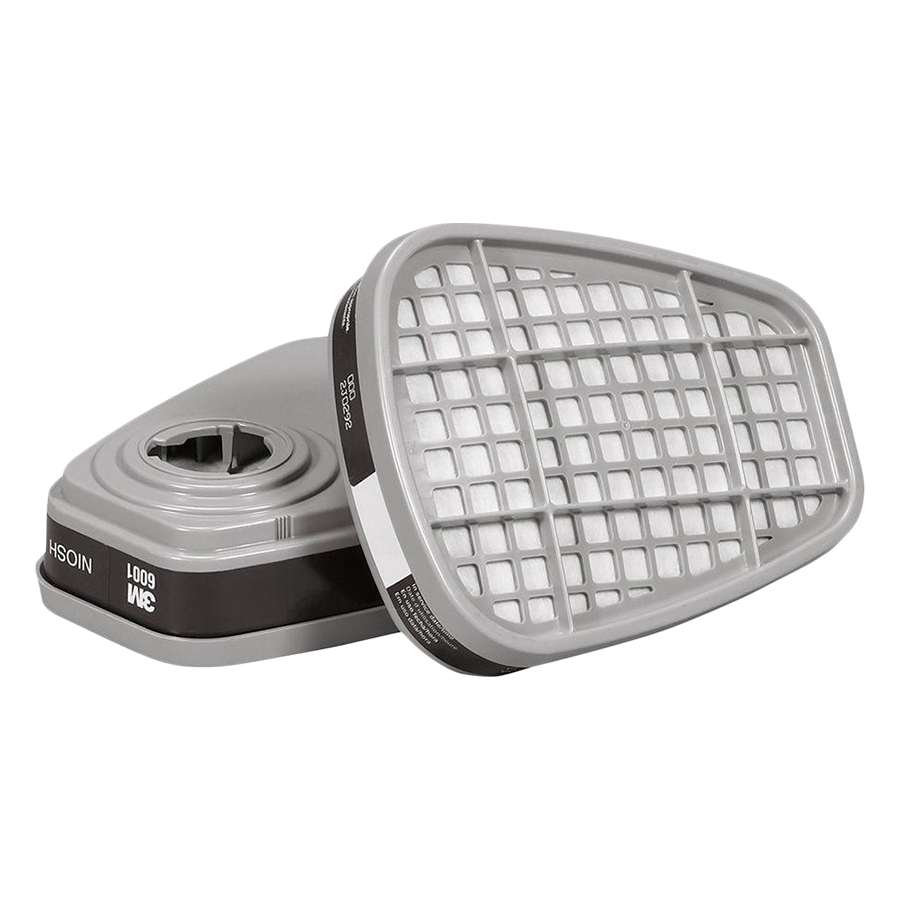3M: (120, 579, 160, 619)
